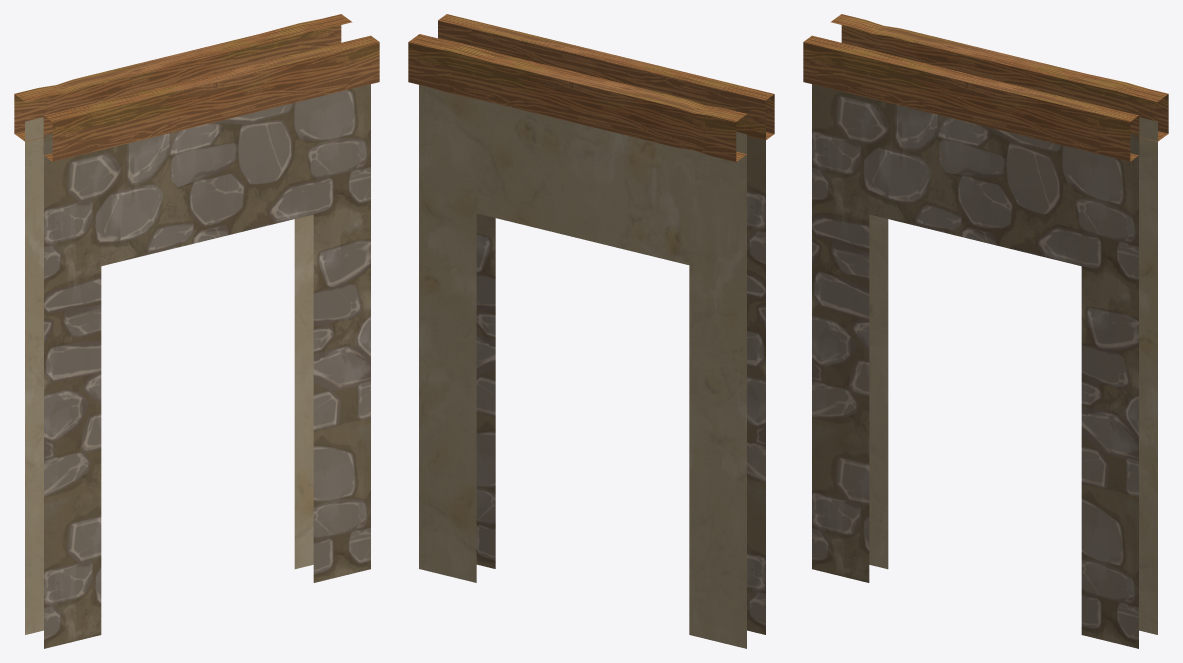
Rendered from Wall_UnevenBrick_Door_Flat.gltf.
The picture shows the model from 3 angles, left to right: view 1: azimuth 30°, elevation 25°; view 2: azimuth 150°, elevation 25°; view 3: azimuth 330°, elevation 25°; orthographic projection.
Visible parts, largest first — view 1: Wall_UnevenBrick_Door_Flat; view 2: Wall_UnevenBrick_Door_Flat; view 3: Wall_UnevenBrick_Door_Flat.
Part boxes in pixels (<box>): Wall_UnevenBrick_Door_Flat: <box>14,14,379,648</box>; Wall_UnevenBrick_Door_Flat: <box>408,14,774,648</box>; Wall_UnevenBrick_Door_Flat: <box>803,14,1168,648</box>.
Bounding box in the file's own units: 2 × 3.12 × 0.4065.
3 materials, 3 textured.
